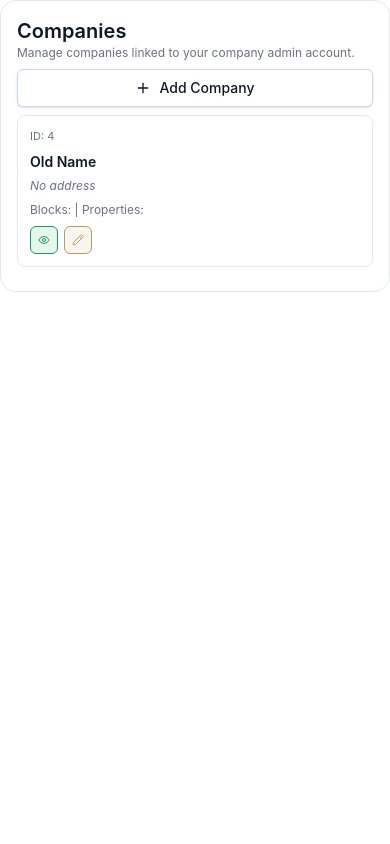
Test: CompaniesManager › updates company name from edit modal
Step 1. Click the button named "Edit company" → [78, 240], box [64, 226, 92, 254]
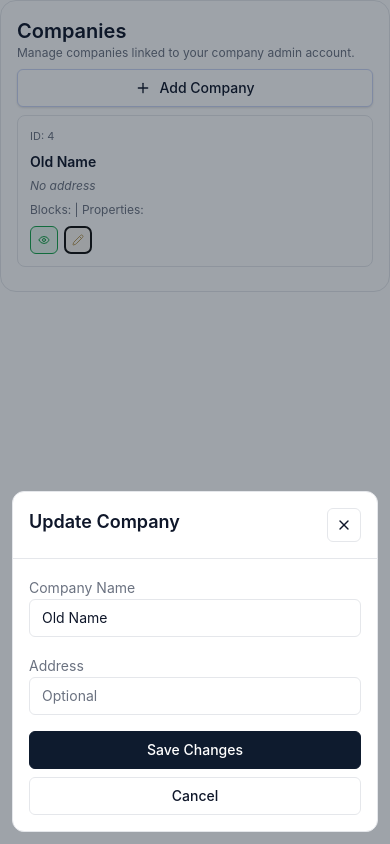
Step 2. Replace the text in the field labelled "Company Name" with "New Name" → [195, 618], box [29, 599, 361, 637]
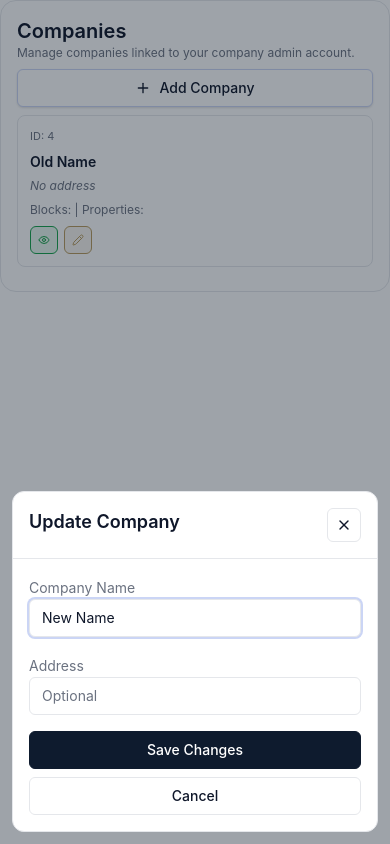
Step 3. Click the button "Save Changes" → [195, 750], box [29, 731, 361, 769]
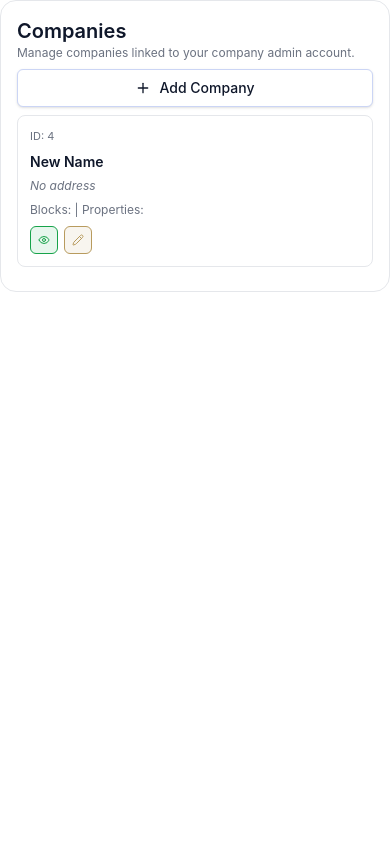
expect the text "New Name" is shown: met, box [30, 152, 104, 170]
